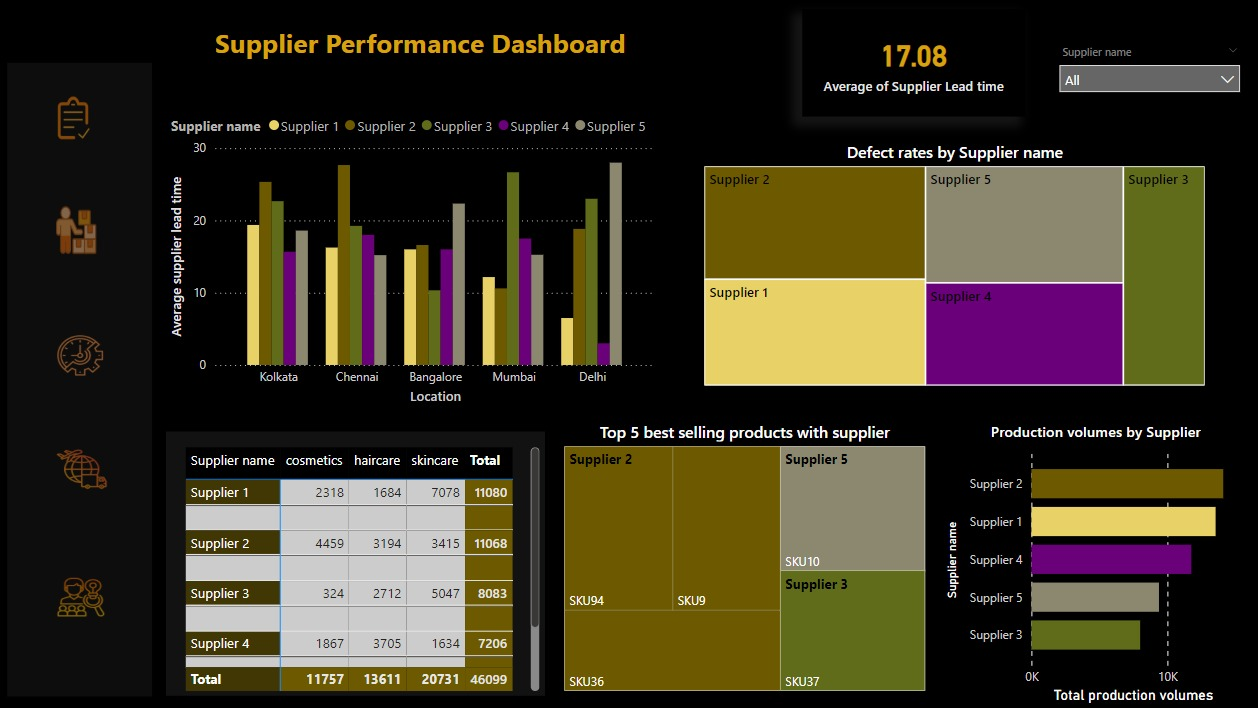

What the dashboard file says about the page in this screenshot:
{"tool":"powerbi","page":{"name":"Supplier performance dashboard","canvas":[1280,720],"ordinal":1},"visuals":[{"type":"shape","box":[11.4,64.5,146.6,640.8],"z":0},{"type":"actionButton","box":[59.4,98.6,37.6,43.9],"z":0,"group":"g1"},{"type":"textbox","box":[158,21.5,542.2,58.1],"z":1000},{"type":"card","fields":{"Values":["Avg(supply_chain_data (2).Supplier Lead time)"]},"box":[815.7,10,225.7,108.6],"z":3000},{"type":"actionButton","box":[60.7,207.3,40.4,53.1],"z":3000,"group":"g1"},{"type":"clusteredColumnChart","fields":{"Category":["supply_chain_data (2).Supplier Location"],"Y":["Avg(supply_chain_data (2).Supplier Lead time)"],"Series":["supply_chain_data (2).Supplier name"]},"box":[171.4,107.1,500,307.1],"z":4000},{"type":"actionButton","box":[61.9,340,46.8,40.4],"z":4000,"group":"g1"},{"type":"treemap","title":" Defect rates by Supplier name","fields":{"Group":["supply_chain_data (2).Supplier name"],"Values":["Sum(supply_chain_data (2).Defect rates)"]},"box":[711.4,142.9,515.7,252.9],"z":5000},{"type":"actionButton","box":[60.7,585.2,50.6,39.2],"z":5000,"group":"g1"},{"type":"pivotTable","fields":{"Rows":["supply_chain_data (2).Supplier name"],"Columns":["supply_chain_data (2).Product type"],"Values":["Sum(supply_chain_data (2).Number of products sold)"]},"box":[171.4,437.1,382.9,267.1],"z":6000},{"type":"actionButton","box":[60.7,455,51.8,40.4],"z":6000,"group":"g1"},{"type":"treemap","title":"Top 5 best selling products with supplier","fields":{"Group":["supply_chain_data (2).Supplier name"],"Values":["Sum(supply_chain_data (2).Number of products sold)"],"Details":["supply_chain_data (2).SKU"]},"box":[570,425.7,374.3,278.6],"z":7000},{"type":"barChart","title":"Production volumes by Supplier ","fields":{"Category":["supply_chain_data (2).Supplier name"],"Y":["Sum(supply_chain_data (2).Production volumes)"]},"box":[955.7,427.1,312.9,290],"z":8000},{"type":"slicer","fields":{"Values":["supply_chain_data (2).Supplier name"]},"box":[1064.3,40,204.3,78.6],"z":9000},{"type":"group","id":"g1","title":"Group 1","box":[59.4,98.6,53.1,525.8],"z":9001}]}

Visuals, with their boxes on the page's 1280x720 design canvas (x1, y1, x2, y2). These are canvas units, not pixel positions in the 1258x708 screenshot, which may show the page scaled, cropped or inside an application window:
shape: <bbox>11, 64, 158, 705</bbox>
actionButton: <bbox>59, 99, 97, 142</bbox>
textbox: <bbox>158, 22, 700, 80</bbox>
card - Avg(supply_chain_data (2).Supplier Lead time): <bbox>816, 10, 1041, 119</bbox>
actionButton: <bbox>61, 207, 101, 260</bbox>
clusteredColumnChart - supply_chain_data (2).Supplier Location x Avg(supply_chain_data (2).Supplier Lead time): <bbox>171, 107, 671, 414</bbox>
actionButton: <bbox>62, 340, 109, 380</bbox>
" Defect rates by Supplier name" treemap: <bbox>711, 143, 1227, 396</bbox>
actionButton: <bbox>61, 585, 111, 624</bbox>
pivotTable - supply_chain_data (2).Supplier name x supply_chain_data (2).Product type: <bbox>171, 437, 554, 704</bbox>
actionButton: <bbox>61, 455, 112, 495</bbox>
"Top 5 best selling products with supplier" treemap: <bbox>570, 426, 944, 704</bbox>
"Production volumes by Supplier " barChart: <bbox>956, 427, 1269, 717</bbox>
slicer - supply_chain_data (2).Supplier name: <bbox>1064, 40, 1269, 119</bbox>
"Group 1" group: <bbox>59, 99, 112, 624</bbox>
